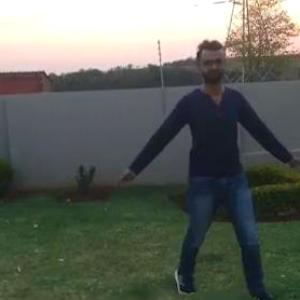land: (144, 60, 264, 236)
